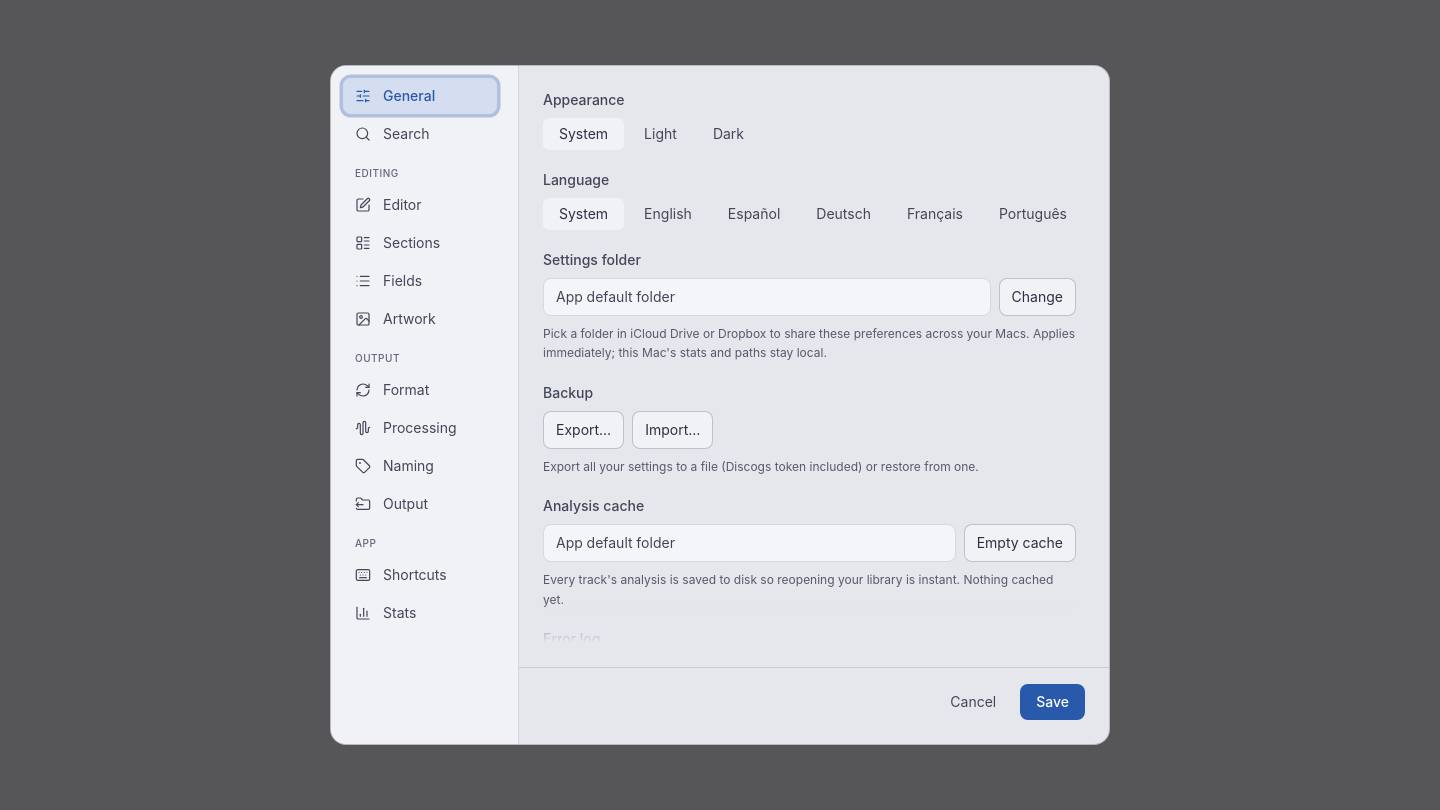
it: SettingsModal cover size clamp › snaps an invalid cover size back to the default where the user can see it
Click the tab with test id "settings-tab-naming" at (420, 466), box [343,448,497,484]
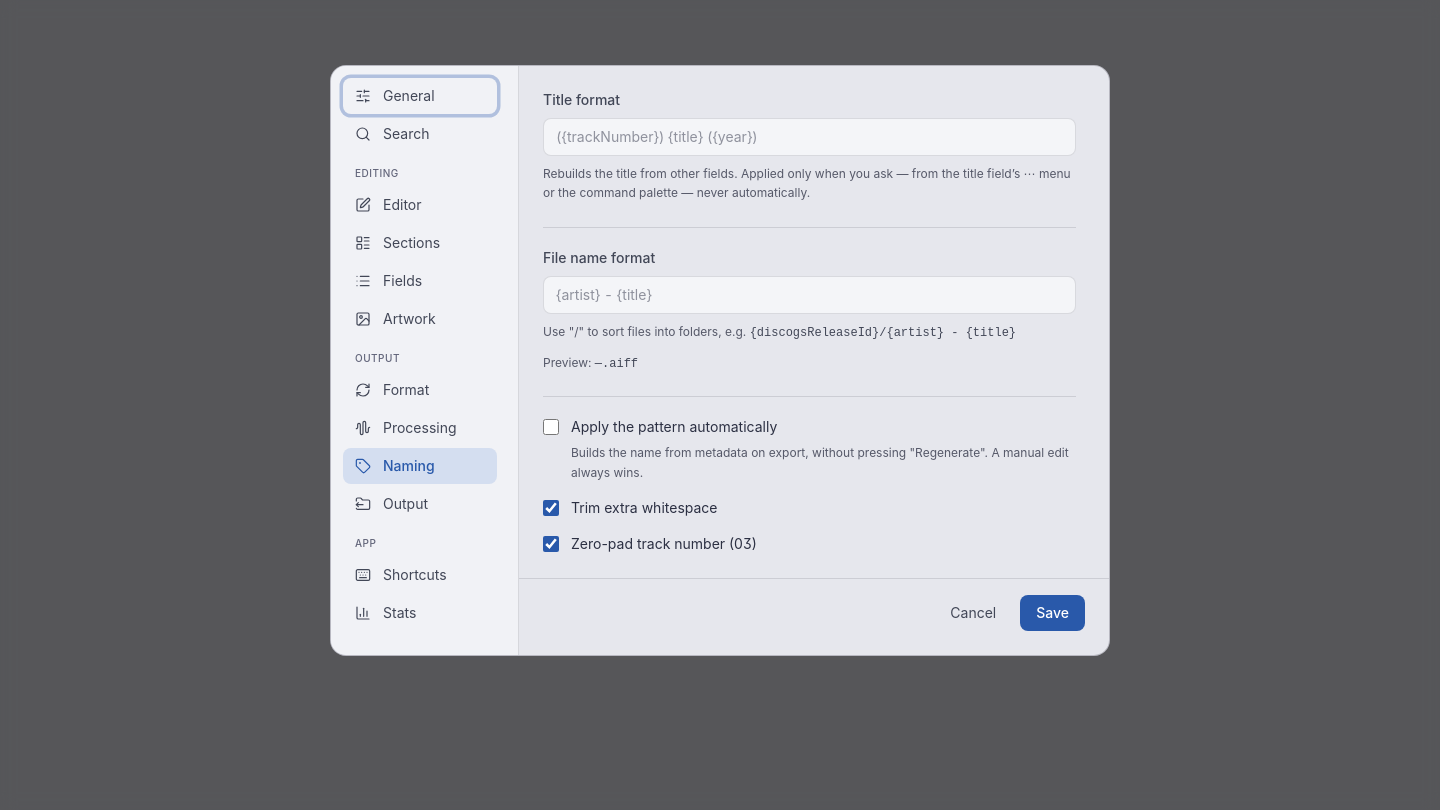
Click the tab with test id "settings-tab-artwork" at (420, 319), box [343,301,497,337]
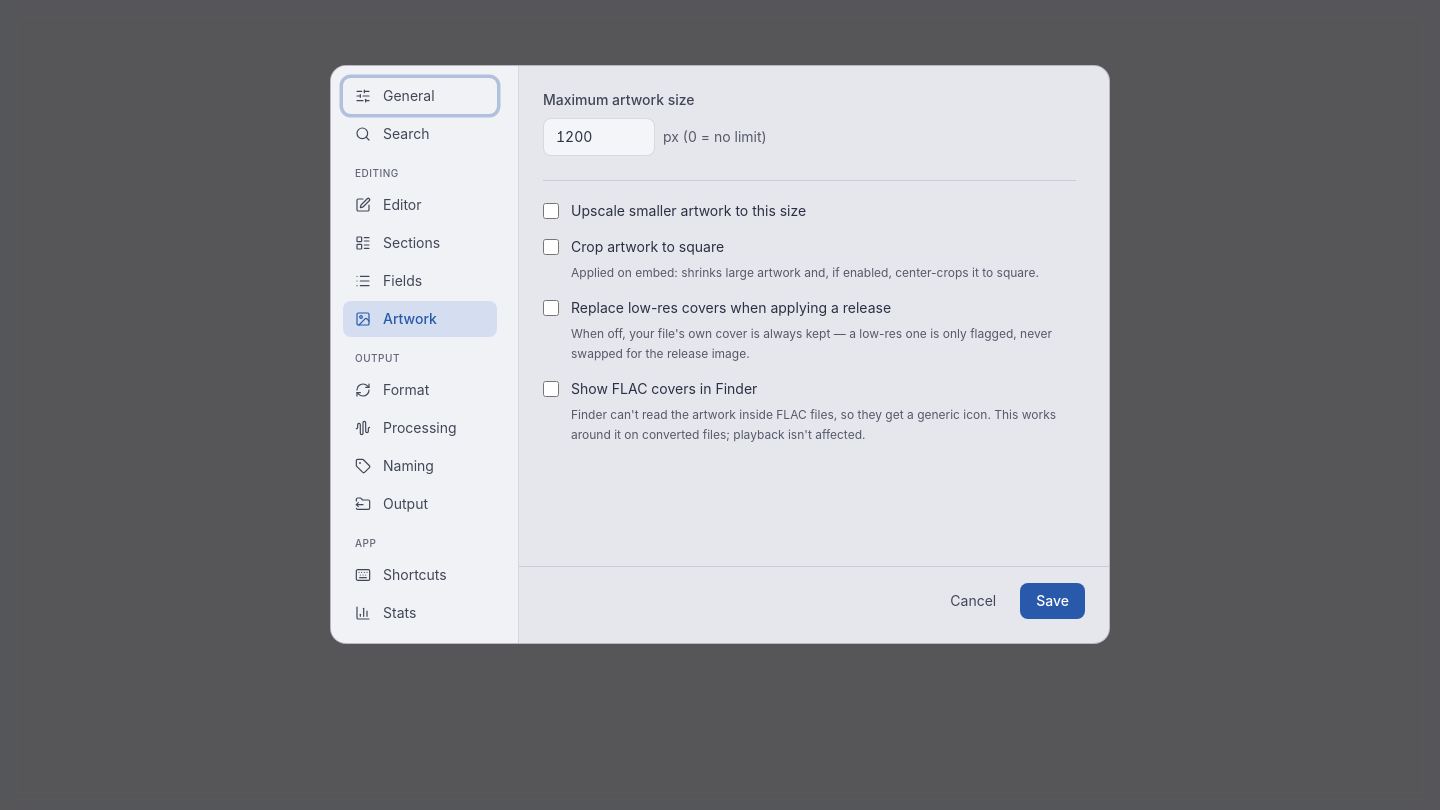
Replace the text in the number field with test id "settings-cover-max" with "-5" at (599, 137), box [543,118,655,156]
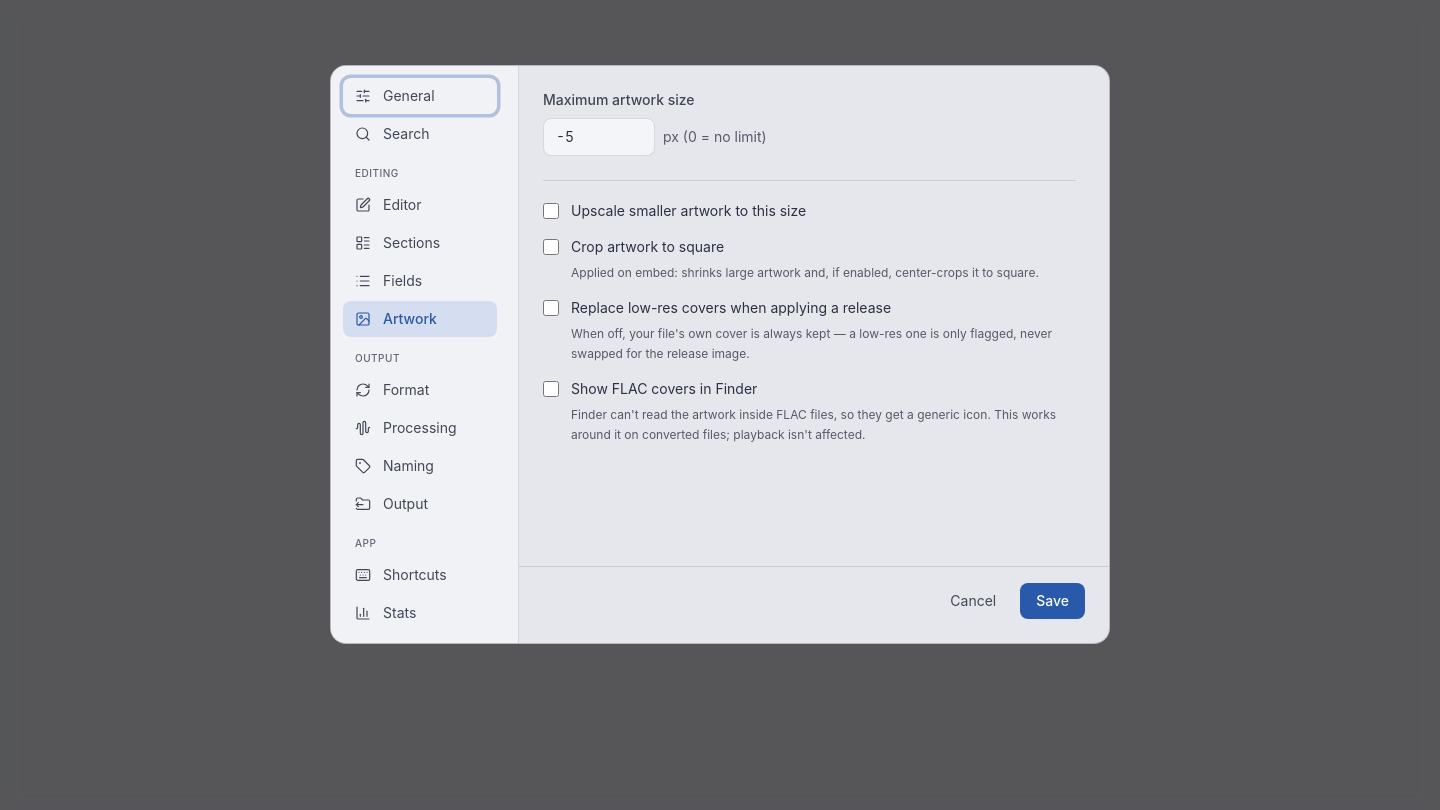
Leave the number field with test id "settings-cover-max", box [543,118,655,156]
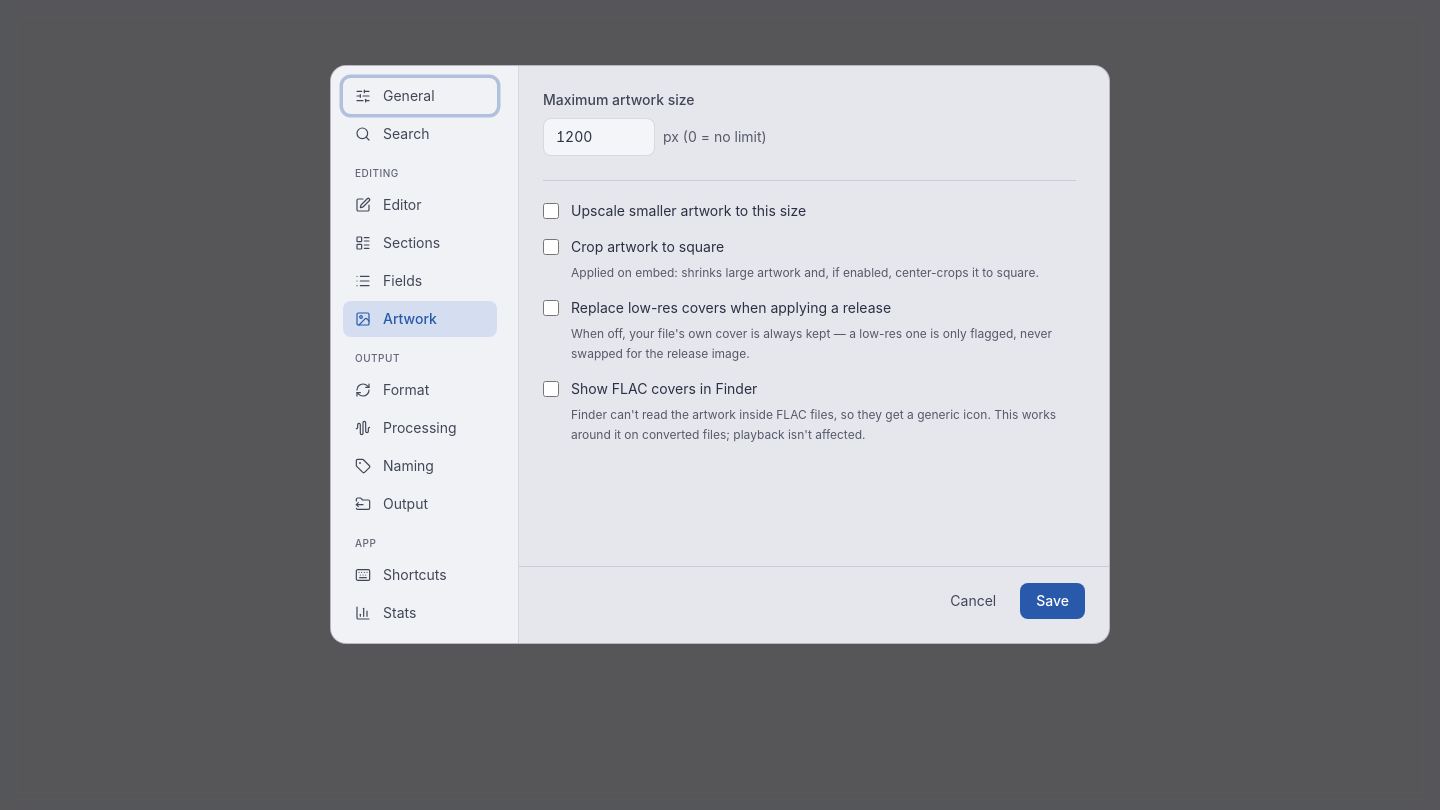
Check: the number field with test id "settings-cover-max" holds "1200", box [543,118,655,156]
